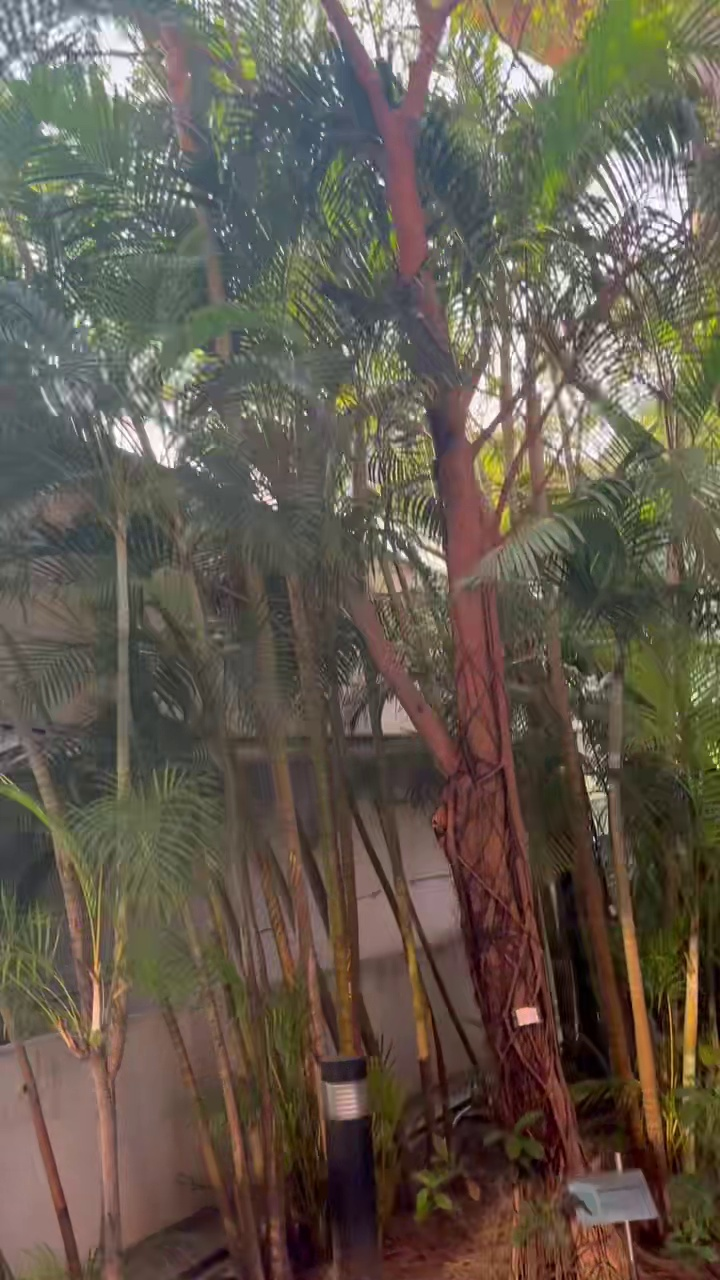Ficus benjamina: (322, 0, 584, 1174)
